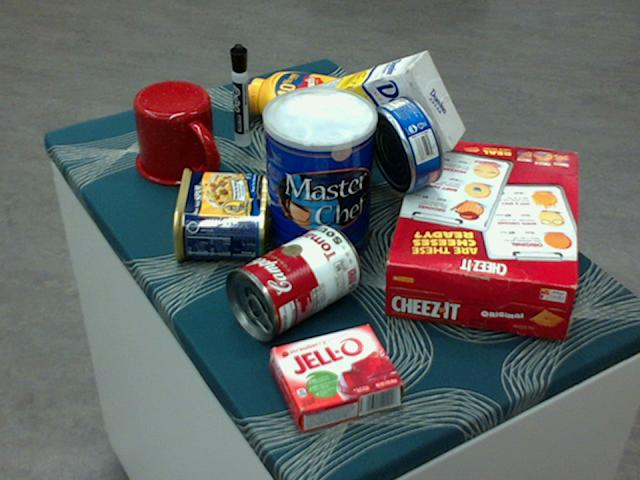cracker_box: (382, 137, 577, 338)
gelatin_box: (270, 323, 403, 431)
large_marker: (229, 43, 251, 147)
master_chef_can: (262, 88, 376, 271)
mug: (133, 80, 221, 186)
mustard_bottle: (233, 70, 402, 149)
potted_meat_can: (172, 168, 266, 262)
sugar_box: (274, 51, 464, 179)
tomato_soup_can: (223, 225, 360, 339)
tuna_fish_can: (367, 94, 444, 191)
